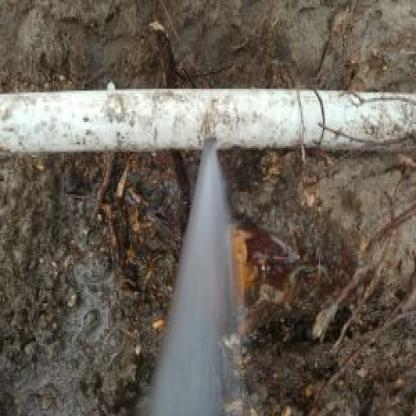PVC: (2, 90, 415, 154)
